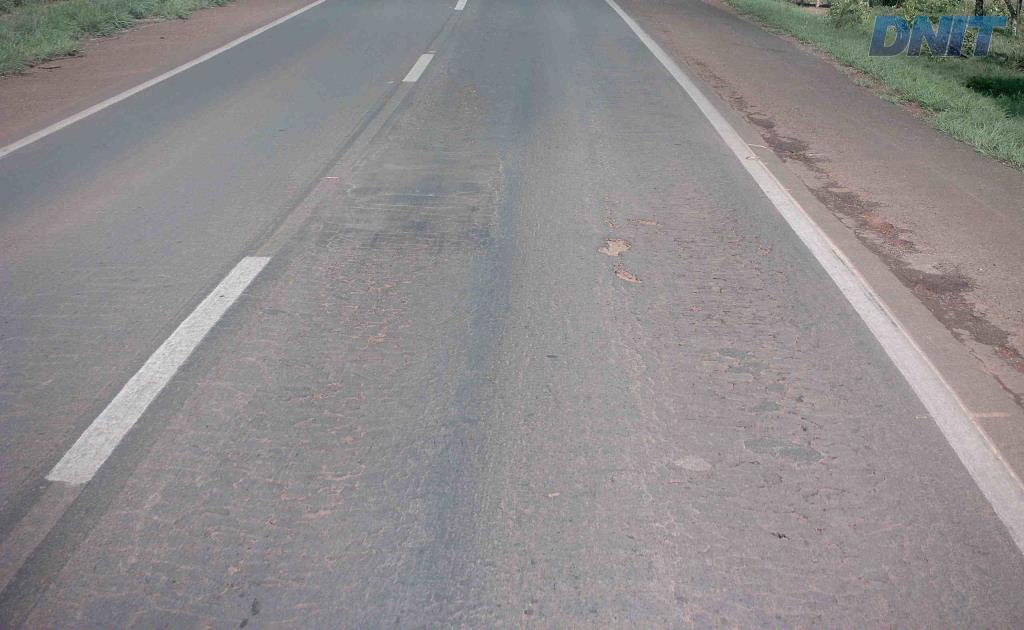pothole: (592, 234, 635, 261), (607, 264, 645, 283), (624, 213, 667, 228)
